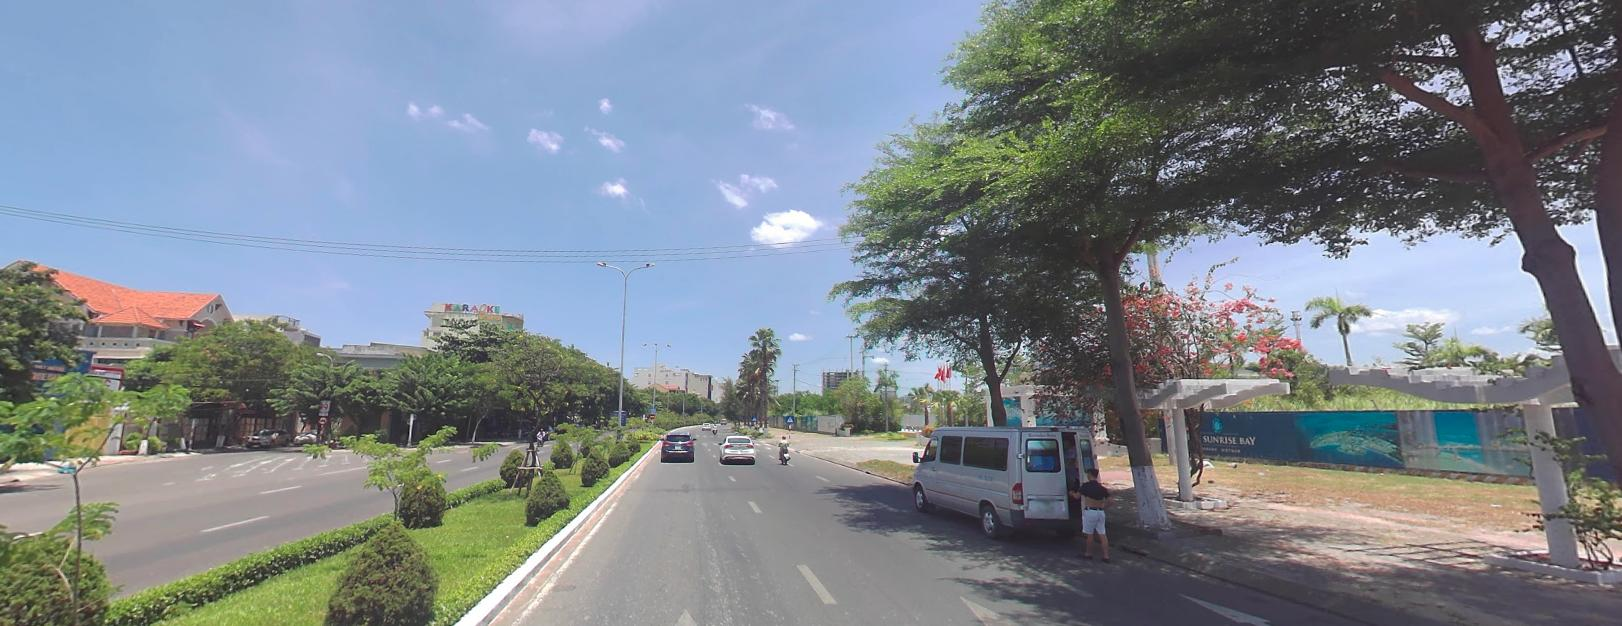Cam nguoc chieu: (649, 412, 654, 417)
